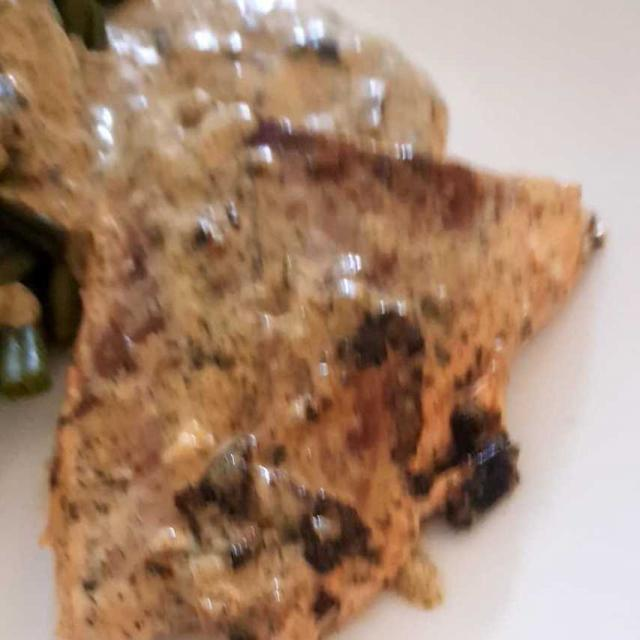salmon: (23, 85, 601, 626)
